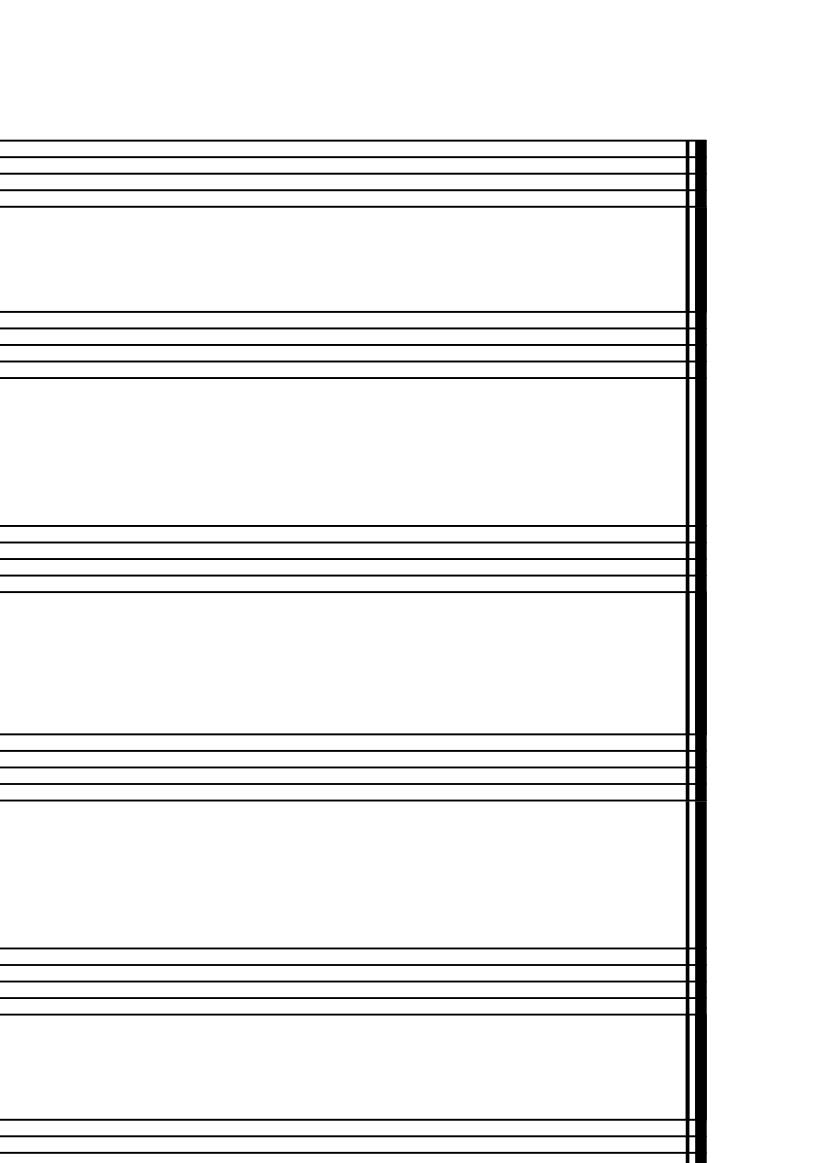Final_barline: (679, 524, 709, 592), (679, 946, 709, 1014), (681, 138, 710, 207), (680, 310, 709, 378), (679, 732, 708, 800), (680, 1118, 708, 1163)
